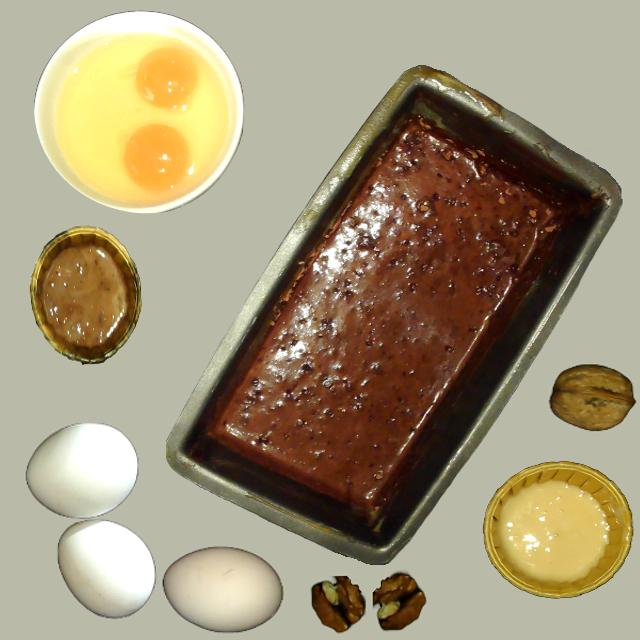Egg: (123, 124, 191, 190), (134, 46, 200, 110)
Walnut: (549, 365, 634, 431)
